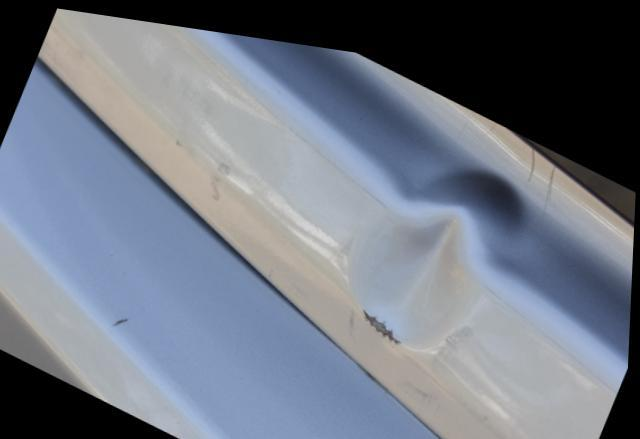dent: (351, 154, 528, 346)
